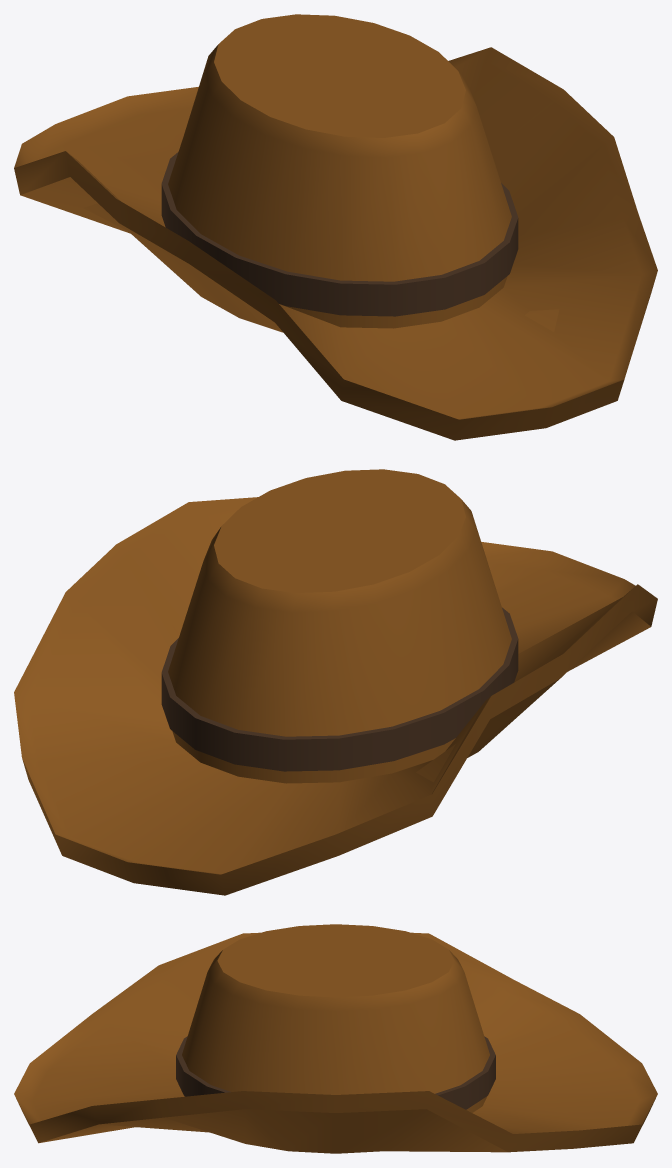
The model's file is cowboyhattextured.fbx.
3 views of the same model, one above another, from view 1: azimuth 30°, elevation 25°; view 2: azimuth 150°, elevation 25°; view 3: azimuth 270°, elevation 25° (orthographic). The views are drawn at different scales.
Parts seen in each view (by area): view 1: pCylinder1; view 2: pCylinder1; view 3: pCylinder1.
Boxes of the visible parts, x1,y1,x2,y2 form: pCylinder1: [14, 14, 657, 440]; pCylinder1: [14, 469, 657, 895]; pCylinder1: [14, 924, 657, 1153].
Bounding box in the file's own units: 2.54 × 1.09 × 4.18.
